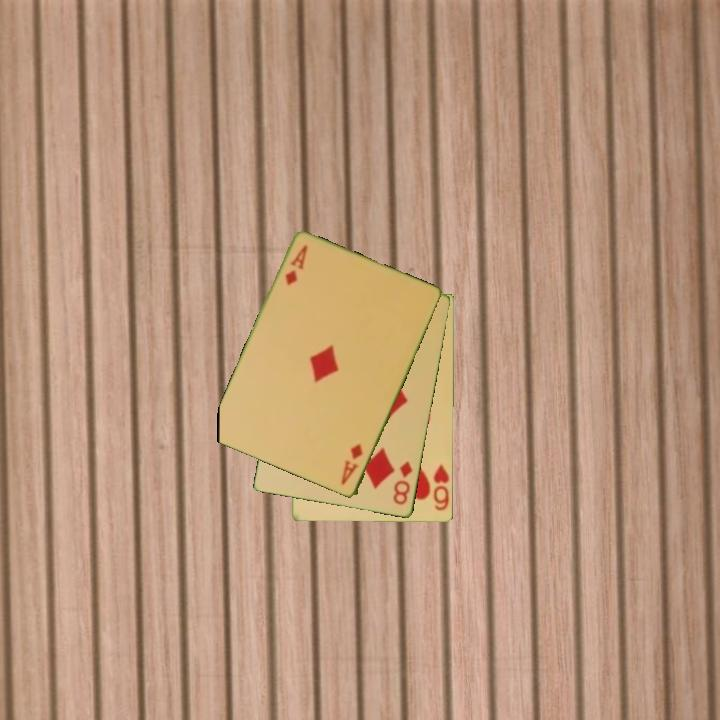6h: (430, 461, 452, 513)
8d: (390, 458, 416, 508)
Ad: (337, 440, 366, 488), (282, 242, 311, 288)
